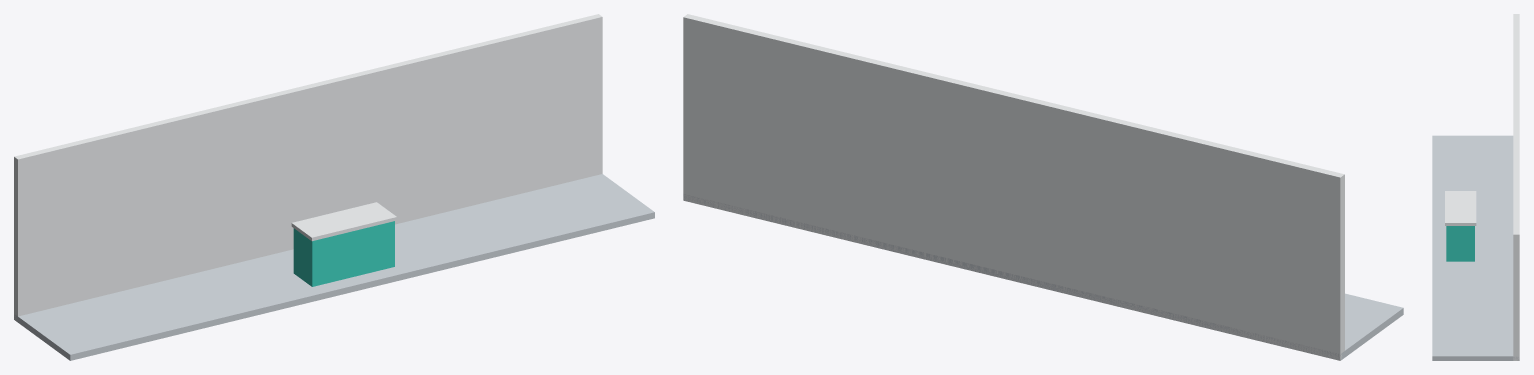
3 renders of one model, left to right at view 1: azimuth 30°, elevation 25°; view 2: azimuth 150°, elevation 25°; view 3: azimuth 270°, elevation 25°, orthographic. The views are drawn at different scales.
Parts seen in each view (by area): view 1: Exhibition Booth Concept; view 2: Exhibition Booth Concept; view 3: Exhibition Booth Concept.
Boxes of the visible parts, <box> form: Exhibition Booth Concept: <box>14,14,654,360</box>; Exhibition Booth Concept: <box>683,14,1403,360</box>; Exhibition Booth Concept: <box>1432,14,1519,360</box>.
Size of the model in its own units: 12 by 3.2 by 2.
